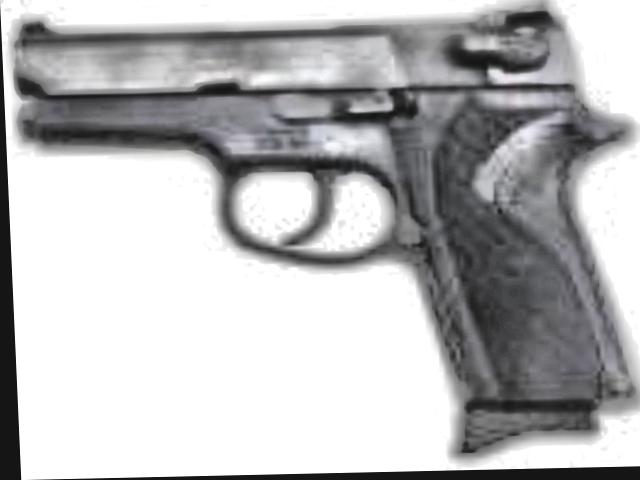pistol: (12, 0, 636, 468)
